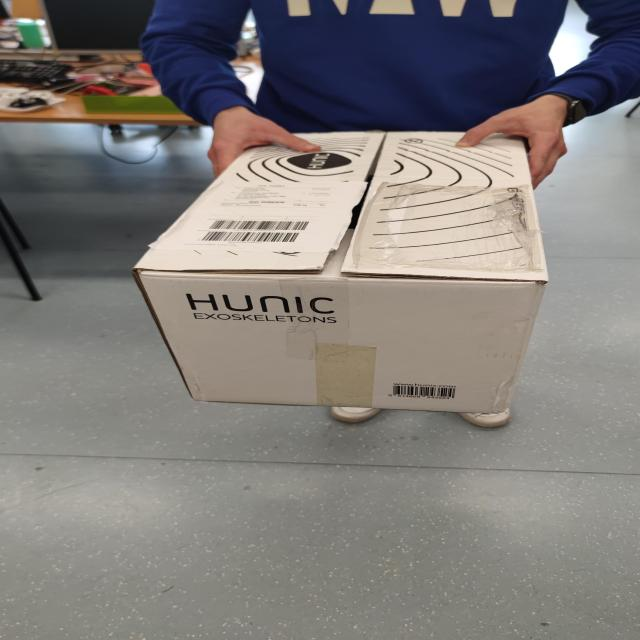box: (140, 112, 560, 444)
